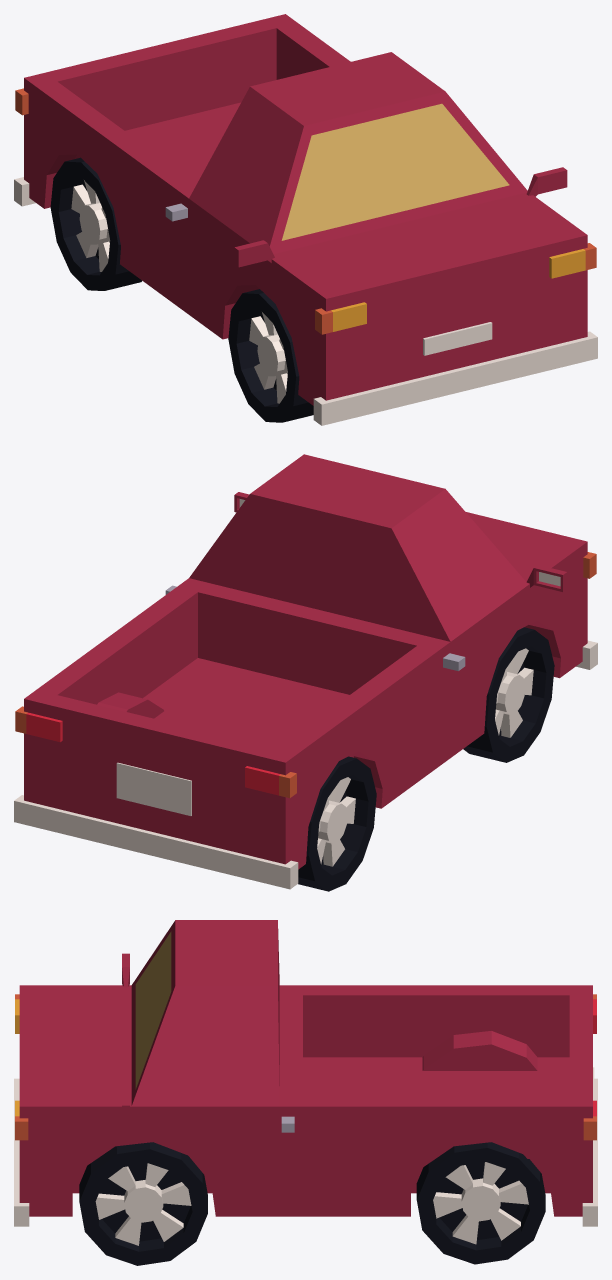
Rendered from carrito rojo.fbx.
3 views of the same model, one above another, from view 1: azimuth 30°, elevation 25°; view 2: azimuth 150°, elevation 25°; view 3: azimuth 270°, elevation 25° (orthographic). The views are drawn at different scales.
Parts seen in each view (by area): view 1: Cube.001; view 2: Cube.001; view 3: Cube.001.
Boxes of the visible parts, <box> form: Cube.001: <box>14,14,597,425</box>; Cube.001: <box>14,454,597,891</box>; Cube.001: <box>14,920,597,1265</box>.
Bounding box in the file's own units: 251 × 195 × 407.
